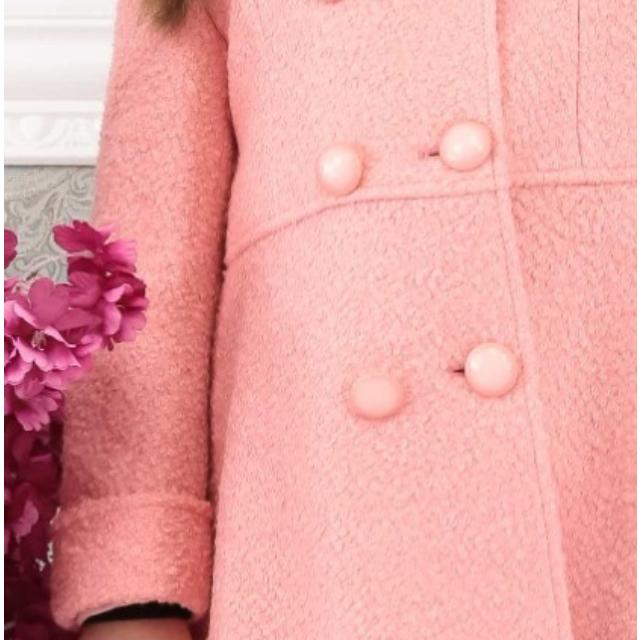wool: (85, 0, 637, 640)
